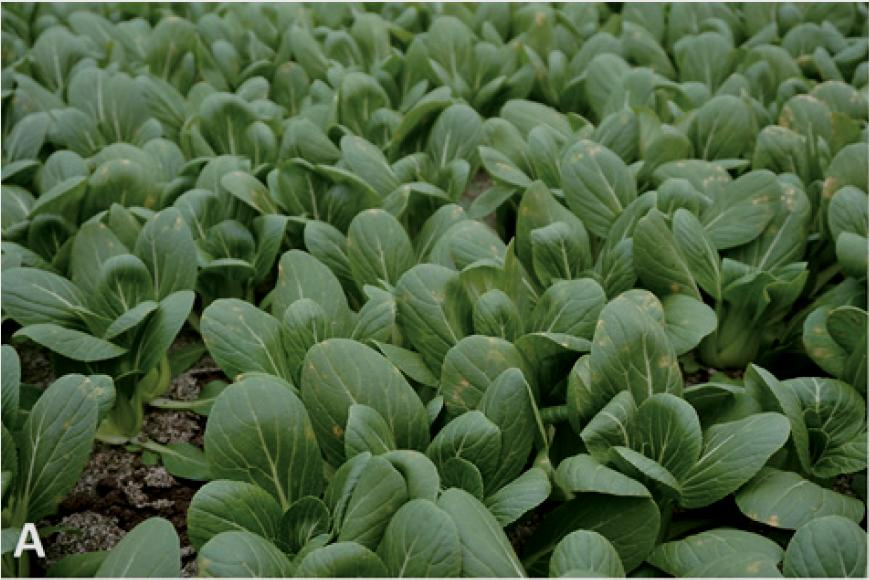Bok-Choy-Diseased: (268, 336, 453, 469), (563, 286, 689, 401), (15, 367, 86, 513)
